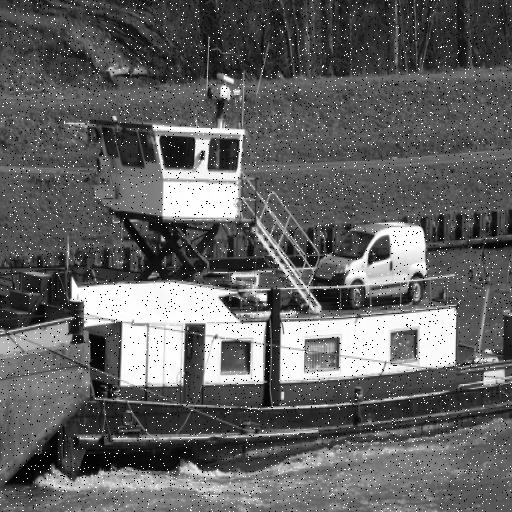tugboat: (1, 67, 512, 496)
